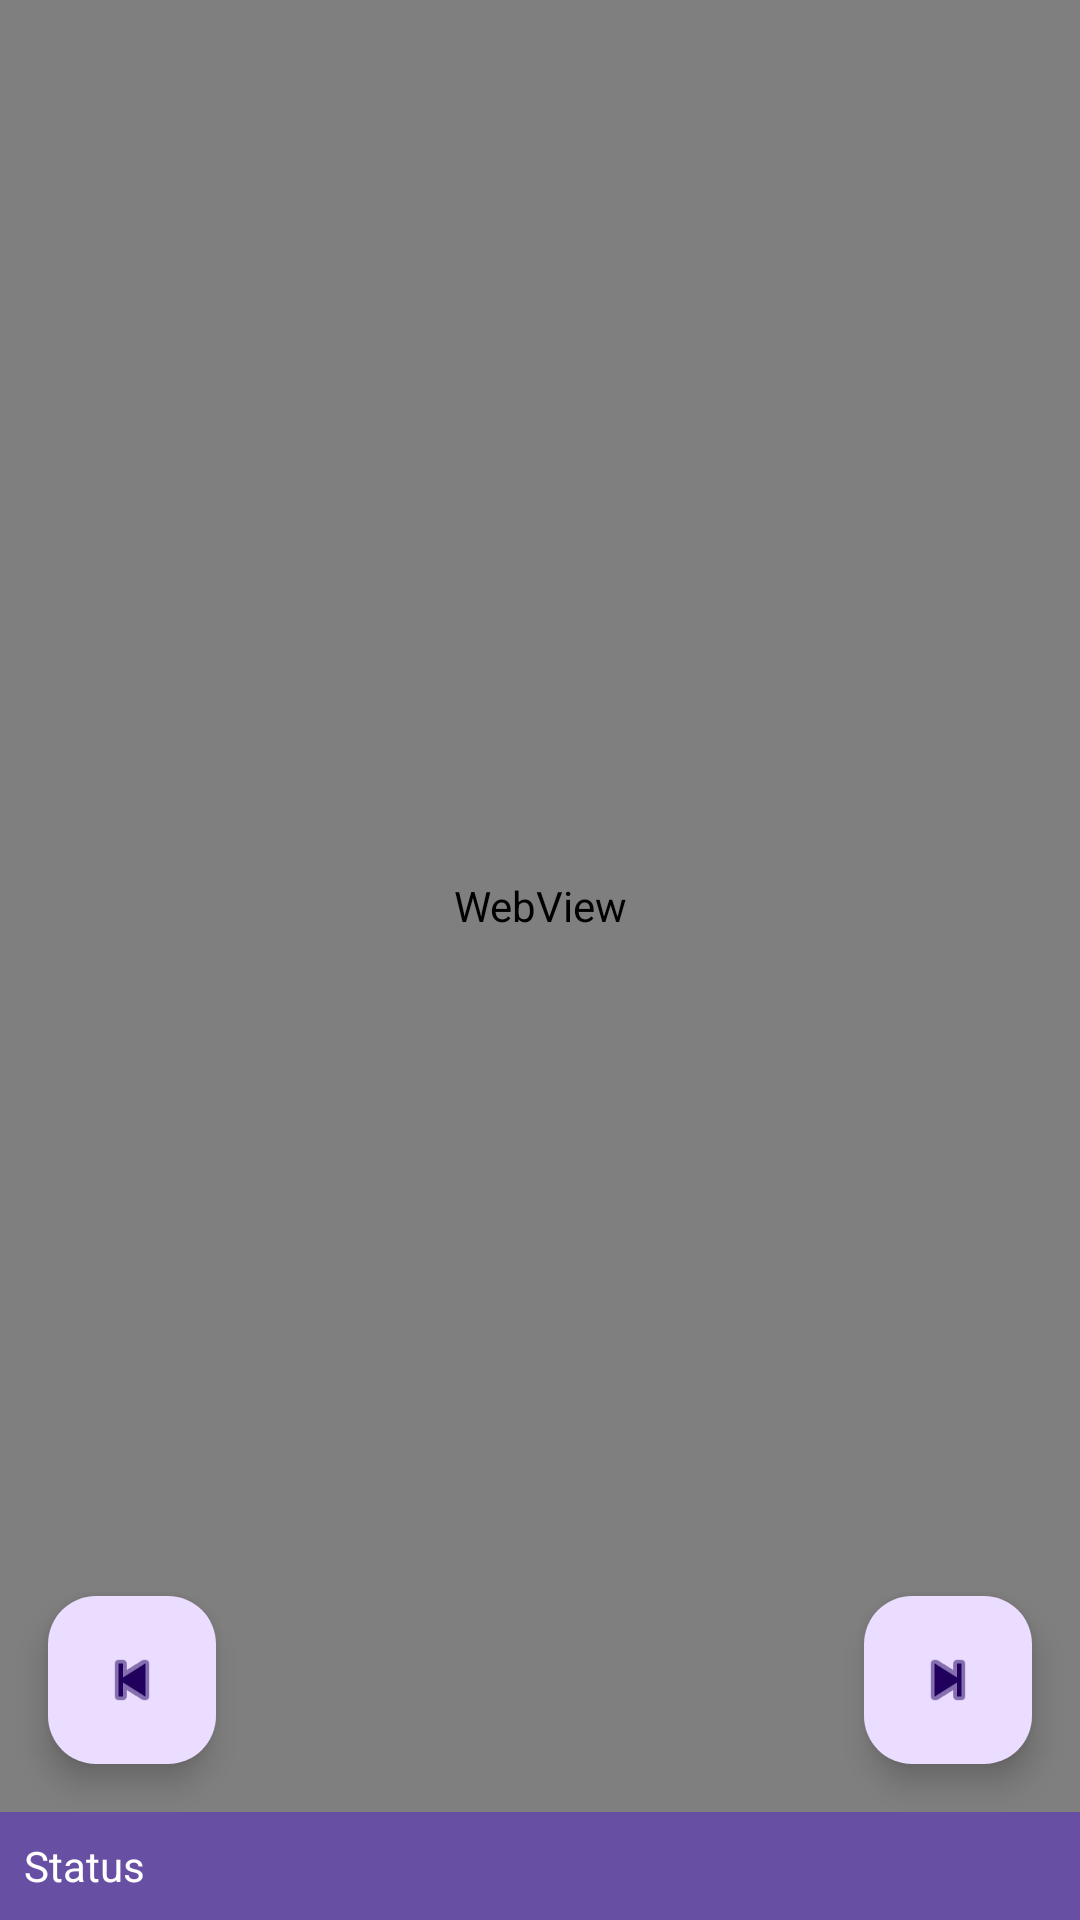

Where icons sit on this 1080px×1920px app screen, as bbox=[x1, y1, x2, y2]:
next: bbox=[864, 1596, 1032, 1764]
previous: bbox=[48, 1596, 216, 1764]
